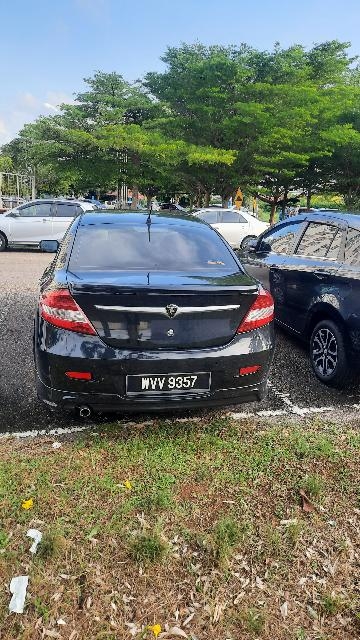License_Plate: (123, 372, 218, 398)
car: (37, 208, 277, 420), (245, 203, 360, 387), (4, 193, 111, 251)
